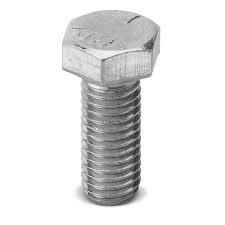hexagonal: (61, 9, 159, 85)
